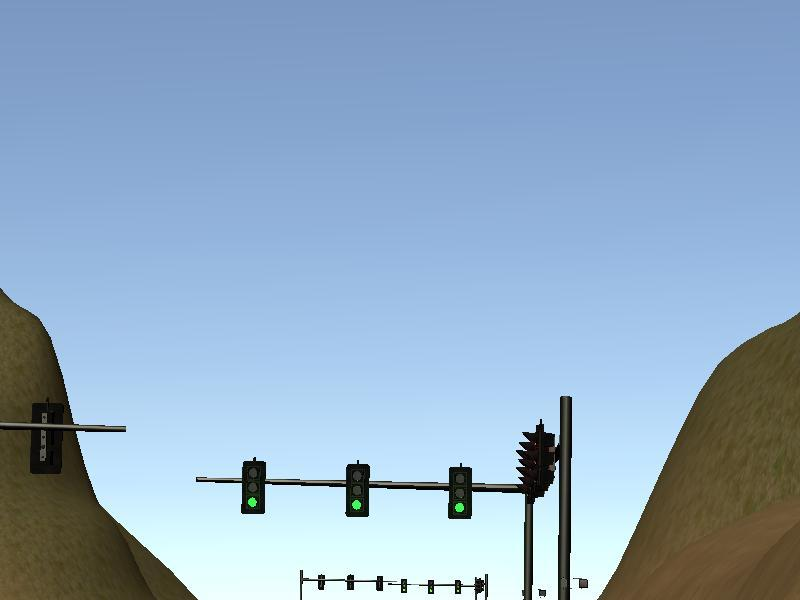Green: (346, 463, 370, 516), (448, 467, 472, 520), (241, 461, 265, 514)
